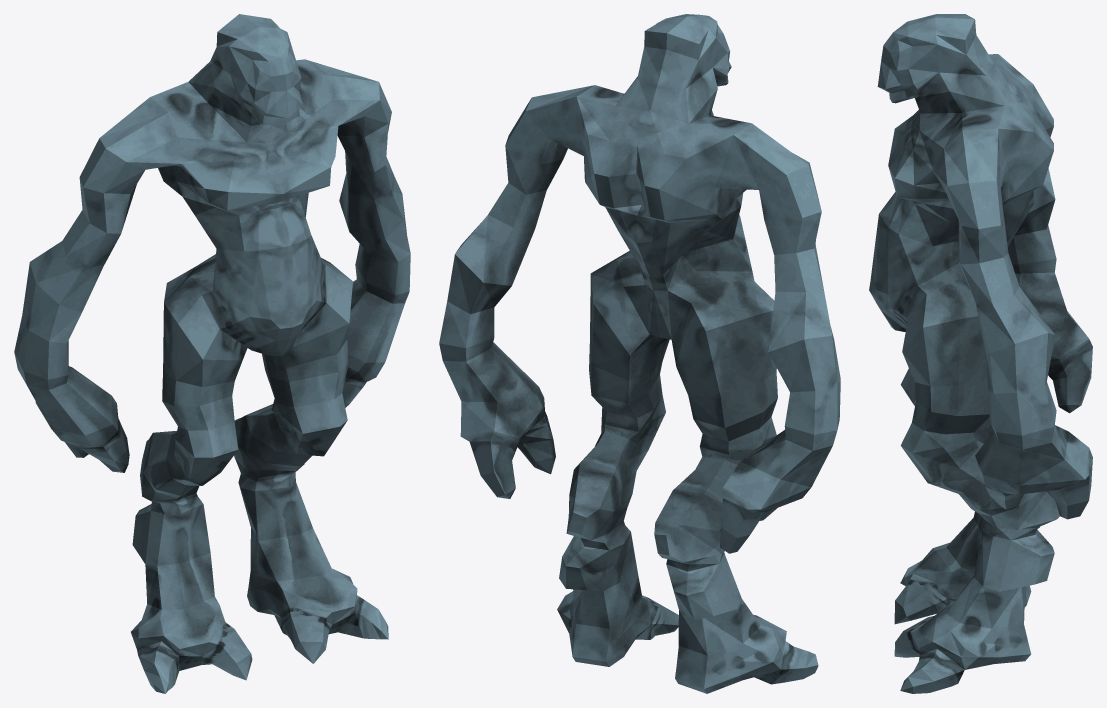
File: golem.obj
3 views of the same model, side by side, from view 1: azimuth 30°, elevation 25°; view 2: azimuth 150°, elevation 25°; view 3: azimuth 270°, elevation 25° (orthographic). The views are drawn at different scales.
Parts seen in each view (by area): view 1: GolemLowPoly; view 2: GolemLowPoly; view 3: GolemLowPoly.
Boxes of the visible parts, x1,y1,x2,y2 form: GolemLowPoly: (14, 14, 410, 693); GolemLowPoly: (439, 14, 840, 693); GolemLowPoly: (869, 14, 1092, 693).
Size of the model in its own units: 5.47 by 8.58 by 2.79.
Materials: 1 (1 with a texture image).
